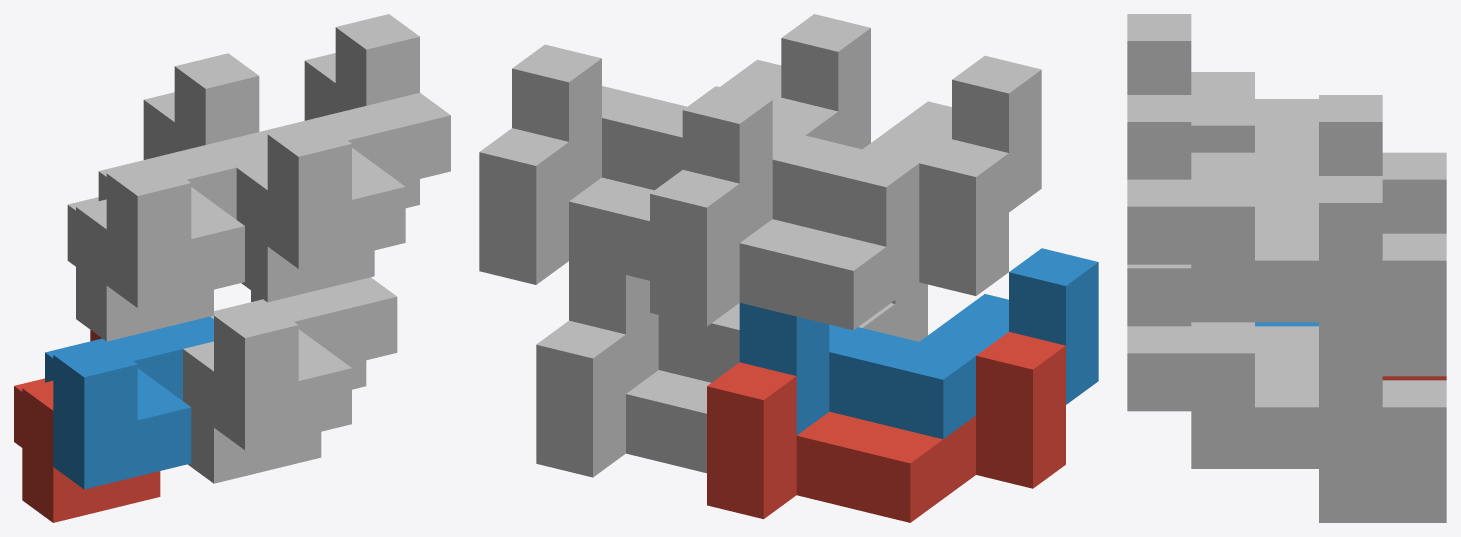
Rendered from tiling.obj.
3 views of the same model, side by side, from view 1: azimuth 30°, elevation 25°; view 2: azimuth 150°, elevation 25°; view 3: azimuth 270°, elevation 25° (orthographic). The views are drawn at different scales.
Parts seen in each view (by area): view 1: copy_1_domain_8, copy_1_domain_4, copy_1_domain_6, copy_1_domain_2, copy_1_domain_3, copy_1_domain_7, copy_1_domain_1, copy_1_domain_5; view 2: copy_1_domain_3, copy_1_domain_1, copy_1_domain_4, copy_1_domain_2, copy_1_domain_8, copy_1_domain_7, copy_1_domain_5, copy_1_domain_6; view 3: copy_1_domain_8, copy_1_domain_6, copy_1_domain_4, copy_1_domain_7, copy_1_domain_5, copy_1_domain_3.
Part boxes in pixels (<box>): copy_1_domain_8: <box>260,14,450,268</box>; copy_1_domain_4: <box>98,53,267,307</box>; copy_1_domain_6: <box>210,277,397,450</box>; copy_1_domain_2: <box>45,316,213,489</box>; copy_1_domain_3: <box>67,92,213,341</box>; copy_1_domain_7: <box>236,53,419,302</box>; copy_1_domain_1: <box>14,330,160,522</box>; copy_1_domain_5: <box>183,290,366,483</box>; copy_1_domain_3: <box>650,139,1008,330</box>; copy_1_domain_1: <box>707,332,1065,522</box>; copy_1_domain_4: <box>682,55,1041,246</box>; copy_1_domain_2: <box>739,248,1098,439</box>; copy_1_domain_8: <box>512,14,870,200</box>; copy_1_domain_7: <box>479,97,838,284</box>; copy_1_domain_5: <box>536,303,895,477</box>; copy_1_domain_6: <box>569,261,927,393</box>; copy_1_domain_8: <box>1127,95,1382,318</box>; copy_1_domain_6: <box>1127,264,1382,464</box>; copy_1_domain_4: <box>1127,14,1382,179</box>; copy_1_domain_7: <box>1191,152,1446,376</box>; copy_1_domain_5: <box>1191,322,1446,522</box>; copy_1_domain_3: <box>1191,72,1446,233</box>.
Size of the model in its own units: 8 by 6 by 5.
